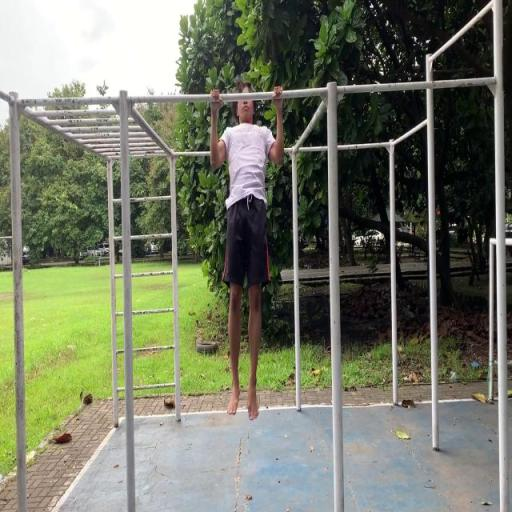Normal_BrenchPress: (208, 84, 285, 421)
